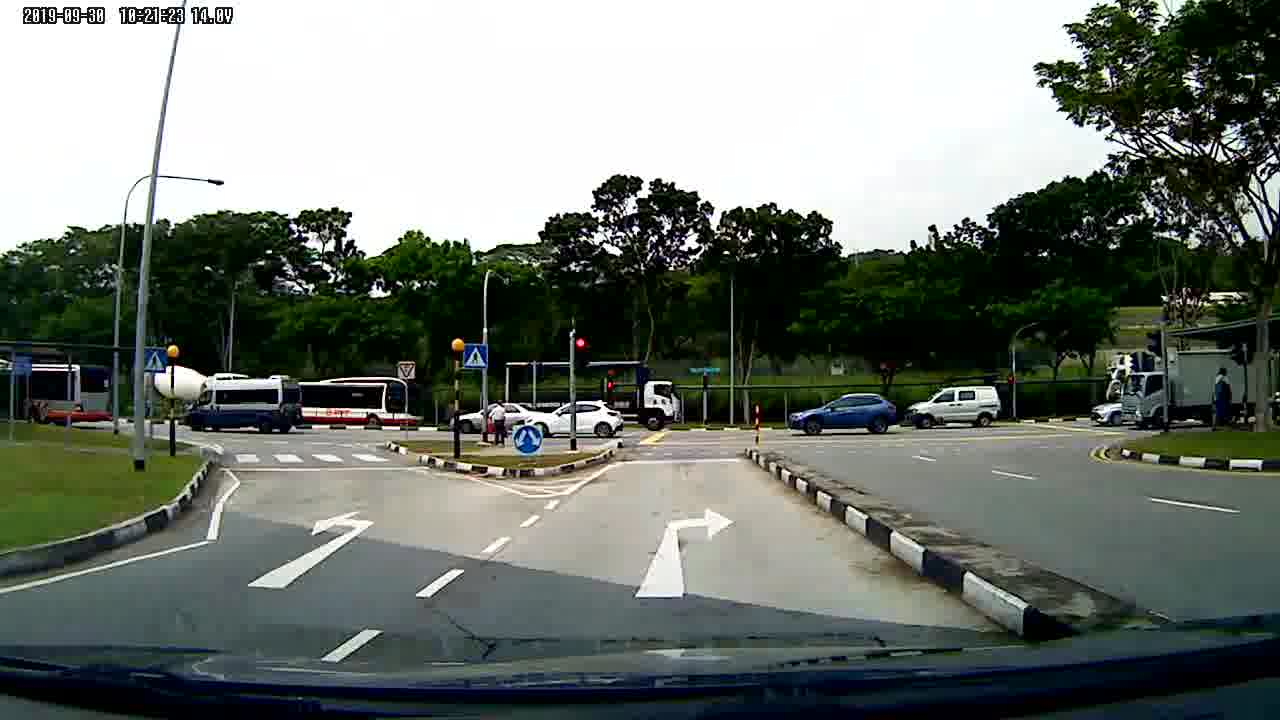bus: (303, 375, 424, 436), (1, 360, 111, 422)
car: (789, 392, 899, 438), (522, 403, 624, 439)
